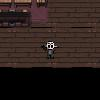Hide: (0, 9, 32, 28)
Jason: (40, 40, 59, 59)
